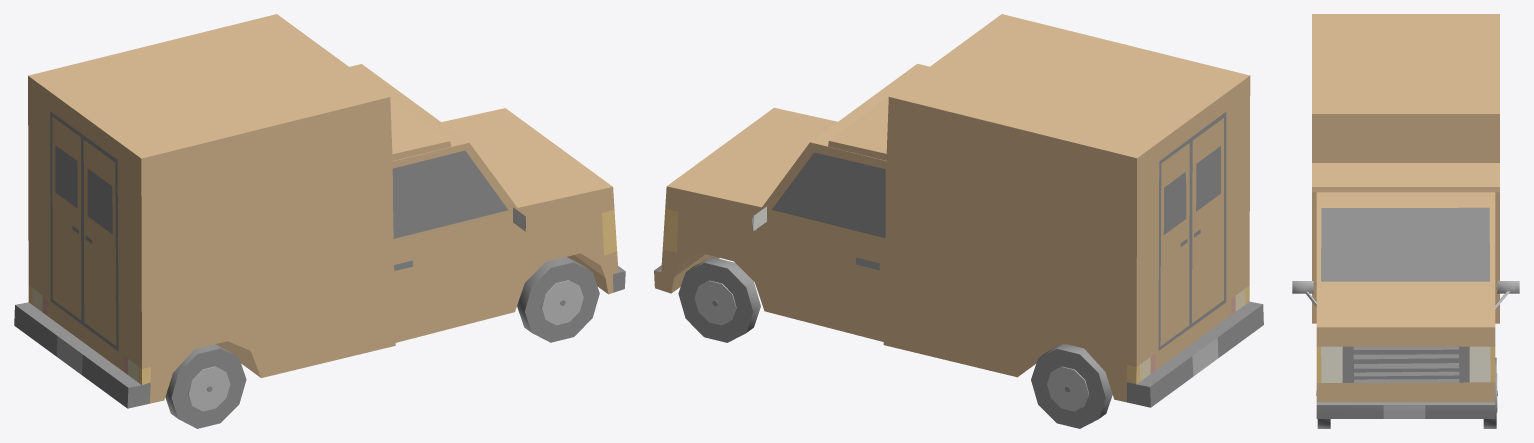
File: truck5.fbx
3 renders of one model, left to right at view 1: azimuth 30°, elevation 25°; view 2: azimuth 150°, elevation 25°; view 3: azimuth 270°, elevation 25°, orthographic. The views are drawn at different scales.
Parts seen in each view (by area): view 1: Extrude, Cylinder_6, Cylinder_9; view 2: Extrude, Cylinder_7, Cylinder_8; view 3: Extrude, Cylinder_7.
Boxes of the visible parts, bbox=[...] form: Extrude: bbox=[14, 14, 625, 408]; Cylinder_6: bbox=[517, 257, 599, 342]; Cylinder_9: bbox=[165, 344, 246, 428]; Extrude: bbox=[654, 14, 1263, 407]; Cylinder_7: bbox=[678, 257, 760, 342]; Cylinder_8: bbox=[1031, 343, 1112, 428]; Extrude: bbox=[1292, 14, 1519, 418]; Cylinder_7: bbox=[1483, 357, 1497, 428].
Bounding box in the file's own units: 510 × 281 × 242.
